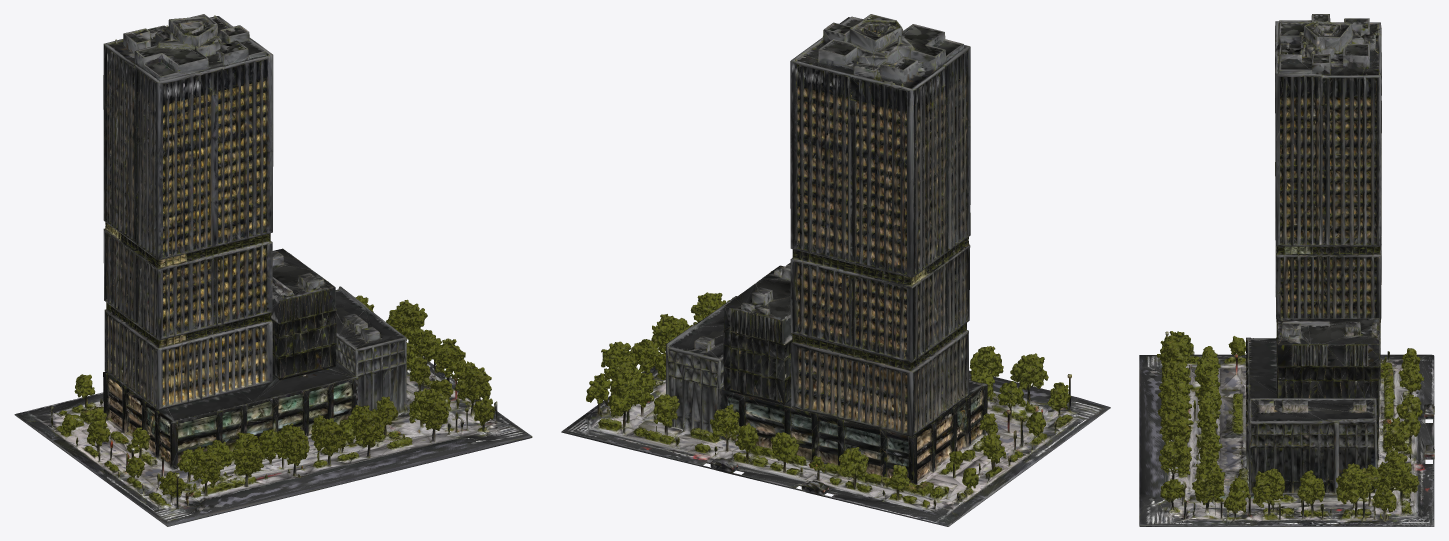
The model's file is lite-rokaus.glb.
3 renders of one model, left to right at view 1: azimuth 30°, elevation 25°; view 2: azimuth 150°, elevation 25°; view 3: azimuth 270°, elevation 25°, orthographic. The views are drawn at different scales.
Size of the model in its own units: 1.84 by 1.9 by 1.32.
1 material, 1 textured.
